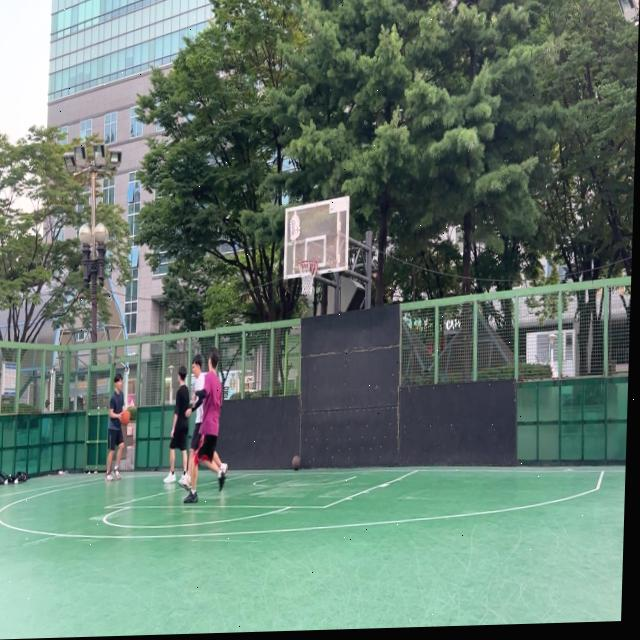basketball: (292, 454, 302, 471), (121, 410, 130, 426)
hoop: (297, 259, 319, 296)
